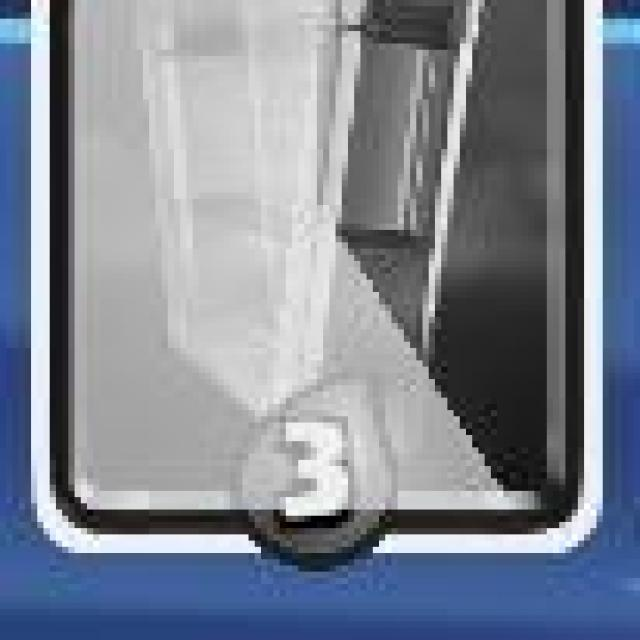Clone_Spell: (25, 0, 605, 566)
